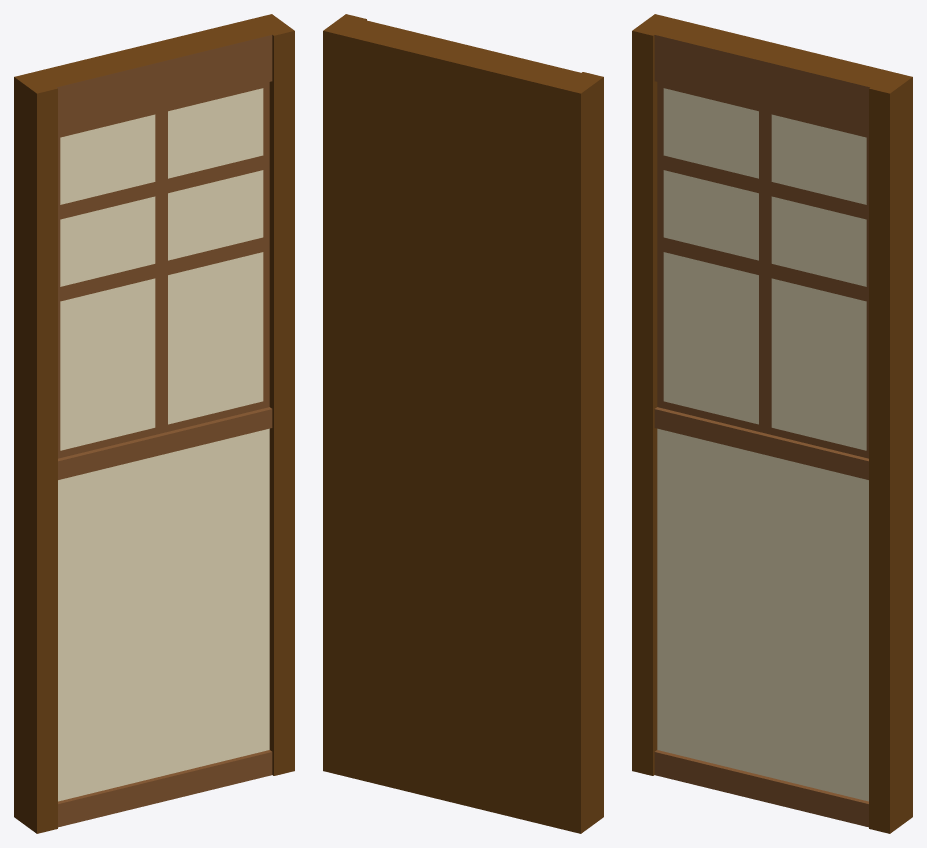
File: Asian_Prop_Building_Modular_Wall_Rural_Door_Screen_02.FBX
The picture shows the model from 3 angles, left to right: view 1: azimuth 30°, elevation 25°; view 2: azimuth 150°, elevation 25°; view 3: azimuth 330°, elevation 25°; orthographic projection.
Parts seen in each view (by area): view 1: Asian_Prop_Building_Modular_Wall_Rural_Door_Screen_02; view 2: Asian_Prop_Building_Modular_Wall_Rural_Door_Screen_02; view 3: Asian_Prop_Building_Modular_Wall_Rural_Door_Screen_02.
Boxes of the visible parts, left/top/right/bottom form: Asian_Prop_Building_Modular_Wall_Rural_Door_Screen_02: left=14, top=14, right=294, bottom=833; Asian_Prop_Building_Modular_Wall_Rural_Door_Screen_02: left=323, top=14, right=603, bottom=833; Asian_Prop_Building_Modular_Wall_Rural_Door_Screen_02: left=632, top=14, right=912, bottom=833.
Size of the model in its own units: 1212 by 3325 by 186.
